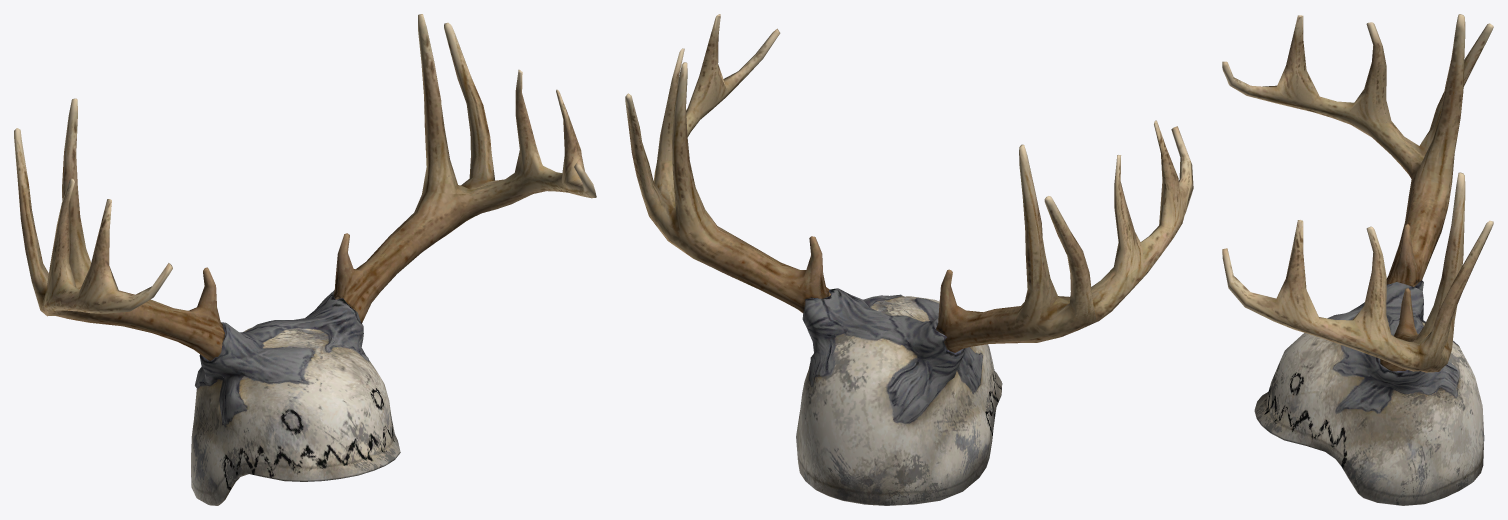
File: SurvivorMale_Head_Helmet_TacticalAntlers_LOD0.glb
3 renders of one model, left to right at view 1: azimuth 30°, elevation 25°; view 2: azimuth 150°, elevation 25°; view 3: azimuth 270°, elevation 25°, orthographic. The views are drawn at different scales.
Parts seen in each view (by area): view 1: Hoodie; view 2: Hoodie; view 3: Hoodie.
Boxes of the visible parts, x1,y1,x2,y2 form: Hoodie: (14,14,596,505); Hoodie: (625,14,1193,505); Hoodie: (1222,14,1493,505).
Bounding box in the file's own units: 0.607 × 0.4655 × 0.3038.
Materials: 1 (1 with a texture image).
